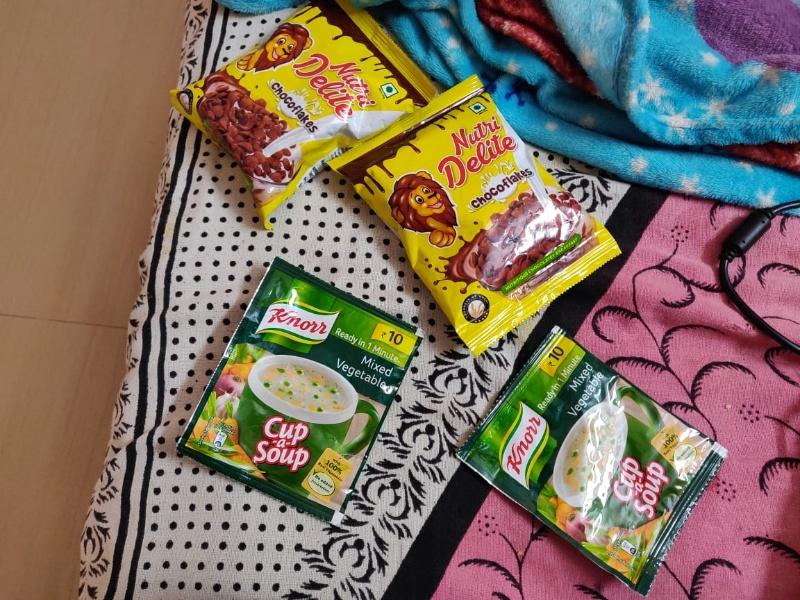Knorr_Cup_Soup: (446, 329, 723, 585), (176, 256, 413, 532)
nutriDelite: (344, 76, 632, 348), (174, 16, 423, 219)
